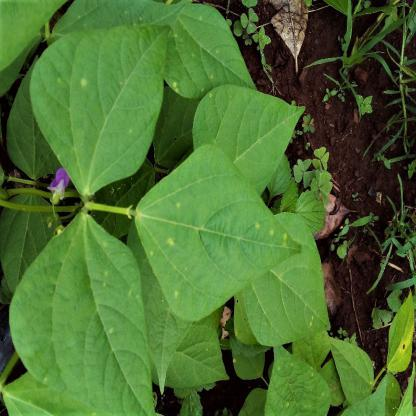Beans_Rust: (11, 220, 154, 416), (134, 149, 294, 319), (30, 24, 166, 193), (160, 0, 262, 100), (268, 342, 331, 416)
